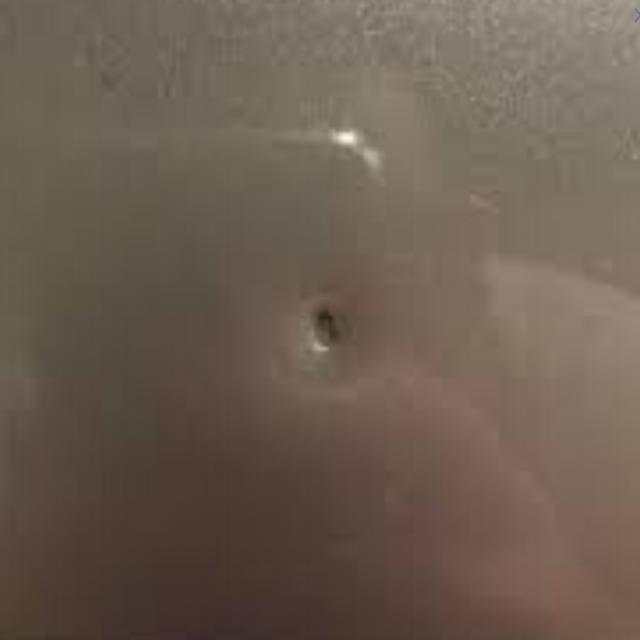dents: (281, 280, 366, 398), (303, 116, 432, 177)
